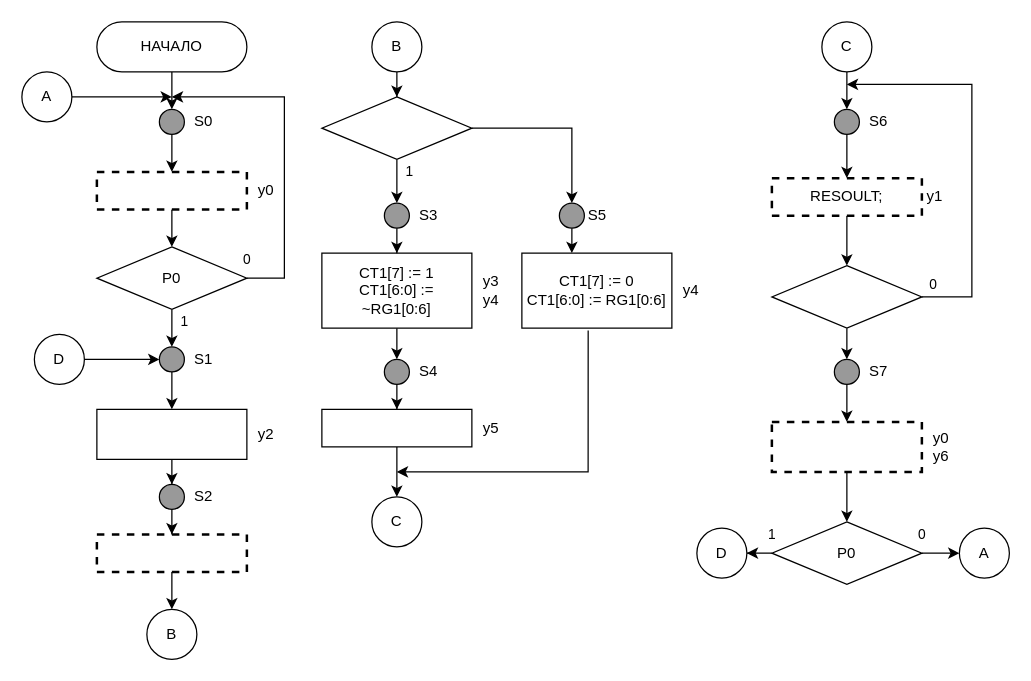
Image size: 1031x681. Some labels were removed from this diagram. The shapes that lost their labels are listed below. From the top down, each one's box as (x1, y1, x2, y2) in pixels, then its label:
(321, 96, 472, 159): P2
(95, 170, 248, 210): READY;
(771, 264, 922, 328): P1
(96, 408, 247, 459): RG1 := ШД
(321, 408, 472, 447): CT1 := CT1 + 1
(770, 420, 922, 472): READY; ШД := СT1
(95, 532, 248, 572): NOP;
